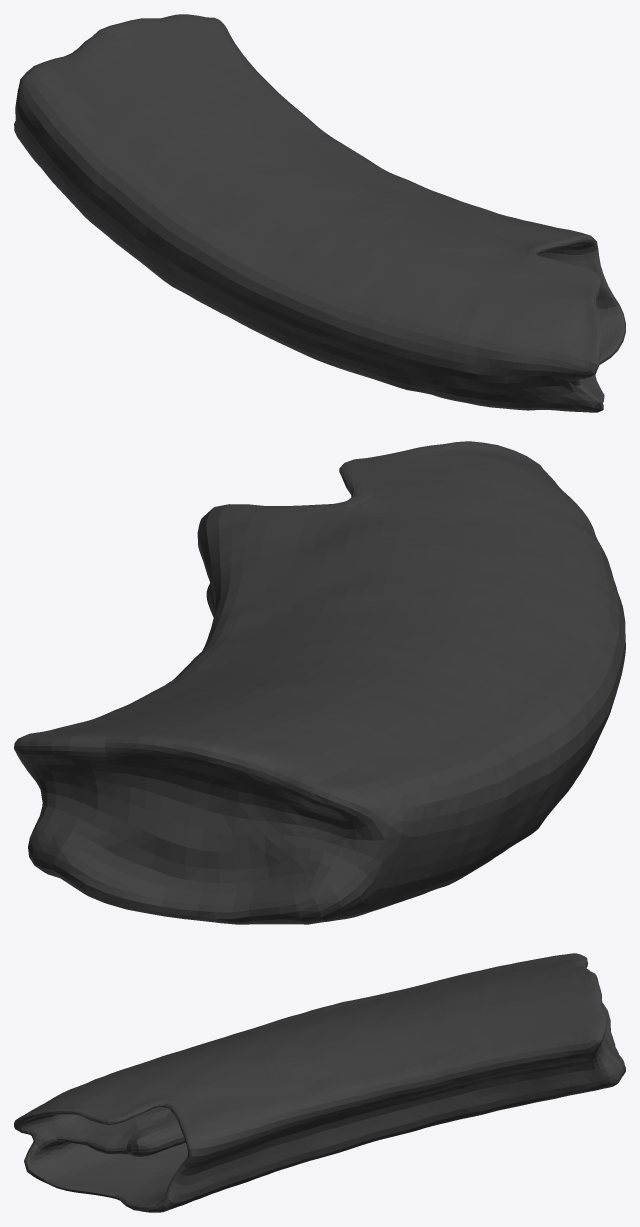
File: tooth_rabbit_207_low.glb
3 renders of one model, top to bottom at view 1: azimuth 30°, elevation 25°; view 2: azimuth 150°, elevation 25°; view 3: azimuth 270°, elevation 25°, orthographic. The views are drawn at different scales.
Parts seen in each view (by area): view 1: tooth_rabbit_207_low; view 2: tooth_rabbit_207_low; view 3: tooth_rabbit_207_low.
Part boxes in pixels (x1,y1,x2,y2): tooth_rabbit_207_low: (14,14,625,412); tooth_rabbit_207_low: (14,441,625,924); tooth_rabbit_207_low: (14,953,625,1212).
Bounding box in the file's own units: 0.7214 × 0.3583 × 1.28.
Materials: 1 (1 with a texture image).
